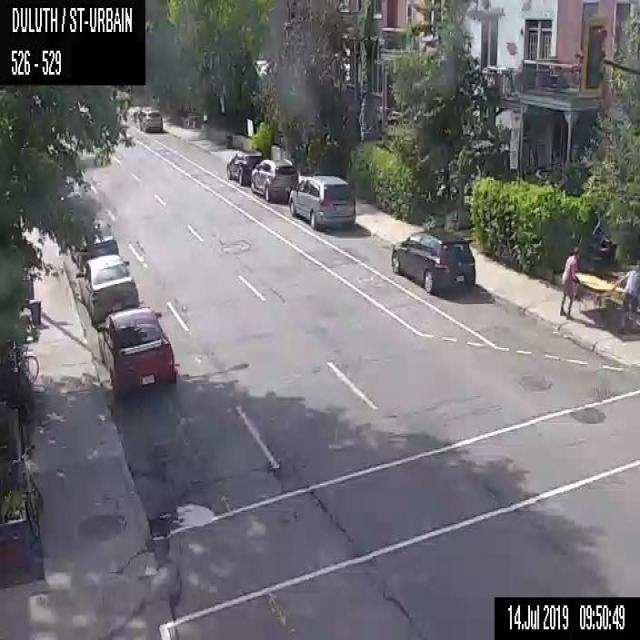pedestrian: (557, 245, 581, 319), (616, 260, 639, 331), (636, 304, 639, 321)
vehicle: (98, 305, 176, 396), (390, 225, 477, 292), (76, 254, 139, 322), (288, 173, 357, 230), (69, 219, 119, 269), (252, 158, 298, 203), (226, 148, 263, 186), (139, 108, 162, 132)
